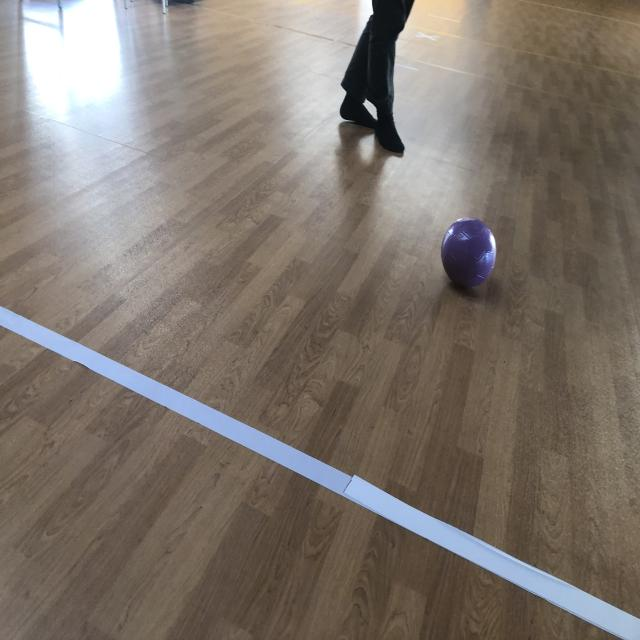purple_ball: (440, 216, 499, 289)
